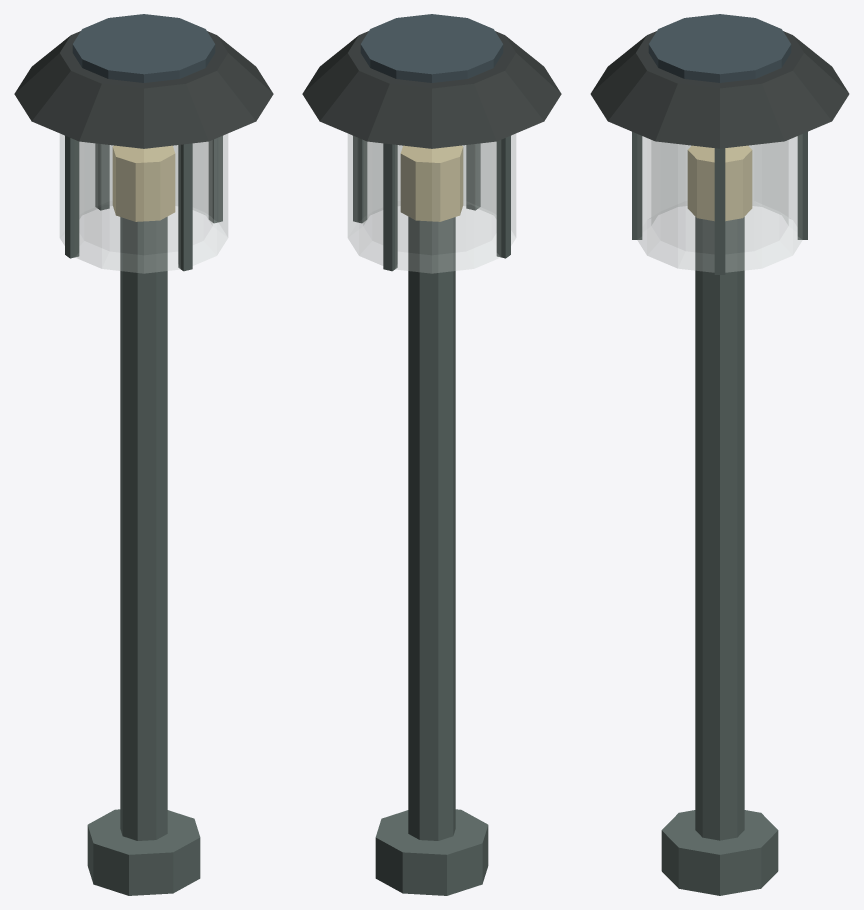
Rendered from solar-lamp.glb.
3 renders of one model, left to right at view 1: azimuth 30°, elevation 25°; view 2: azimuth 150°, elevation 25°; view 3: azimuth 270°, elevation 25°, orthographic.
Parts seen in each view (by area): view 1: solar-lamp/stake, solar-lamp/lamp-glass, solar-lamp/hat, solar-lamp/solar-panel, solar-lamp/foot, solar-lamp/led, solar-lamp/window-frame-3, solar-lamp/window-frame-2, solar-lamp/window-frame-0, solar-lamp/window-frame-1; view 2: solar-lamp/stake, solar-lamp/lamp-glass, solar-lamp/hat, solar-lamp/solar-panel, solar-lamp/foot, solar-lamp/led, solar-lamp/window-frame-1, solar-lamp/window-frame-2, solar-lamp/window-frame-0, solar-lamp/window-frame-3; view 3: solar-lamp/stake, solar-lamp/lamp-glass, solar-lamp/hat, solar-lamp/solar-panel, solar-lamp/foot, solar-lamp/led, solar-lamp/window-frame-0, solar-lamp/window-frame-1, solar-lamp/window-frame-3.
Boxes of the visible parts, box(x1,y1,x2,y2) form: solar-lamp/stake: box(120, 217, 167, 840); solar-lamp/lamp-glass: box(60, 134, 227, 273); solar-lamp/hat: box(14, 31, 273, 148); solar-lamp/solar-panel: box(72, 14, 215, 82); solar-lamp/foot: box(87, 809, 200, 895); solar-lamp/led: box(112, 145, 175, 221); solar-lamp/window-frame-3: box(178, 143, 192, 271); solar-lamp/window-frame-2: box(65, 135, 79, 258); solar-lamp/window-frame-0: box(208, 136, 222, 223); solar-lamp/window-frame-1: box(95, 143, 109, 210); solar-lamp/stake: box(408, 217, 455, 840); solar-lamp/lamp-glass: box(348, 134, 515, 273); solar-lamp/hat: box(302, 31, 561, 148); solar-lamp/solar-panel: box(360, 14, 503, 82); solar-lamp/foot: box(375, 809, 488, 895); solar-lamp/led: box(400, 145, 463, 221); solar-lamp/window-frame-1: box(383, 143, 397, 271); solar-lamp/window-frame-2: box(496, 135, 510, 258); solar-lamp/window-frame-0: box(353, 136, 367, 223); solar-lamp/window-frame-3: box(466, 143, 480, 210); solar-lamp/stake: box(695, 217, 744, 840); solar-lamp/lamp-glass: box(637, 135, 802, 272); solar-lamp/hat: box(590, 31, 849, 148); solar-lamp/solar-panel: box(648, 14, 791, 82); solar-lamp/foot: box(661, 810, 778, 895); solar-lamp/led: box(687, 145, 752, 220); solar-lamp/window-frame-0: box(714, 148, 725, 274); solar-lamp/window-frame-1: box(797, 132, 807, 239); solar-lamp/window-frame-3: box(632, 132, 642, 239).
Size of the model in its own units: 0.2 by 0.705 by 0.2.
Materials: 5 (4 with a texture image).
